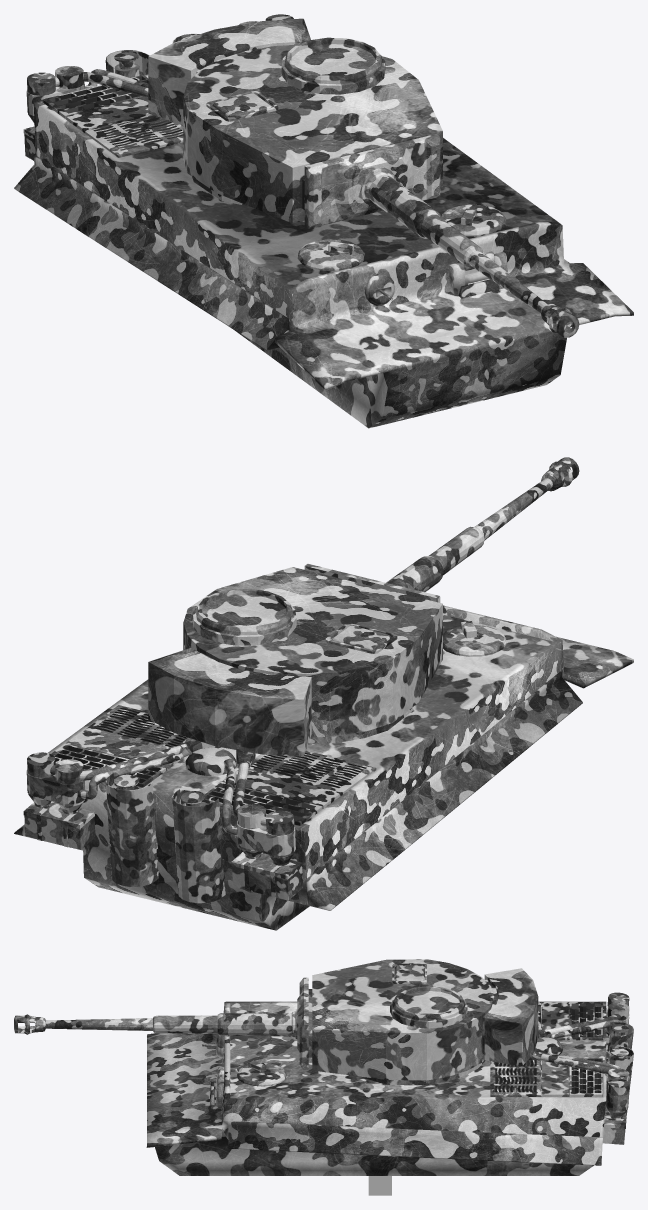
File: Tiger 1_Body.fbx
The picture shows the model from 3 angles, top to bottom: view 1: azimuth 30°, elevation 25°; view 2: azimuth 150°, elevation 25°; view 3: azimuth 270°, elevation 25°; orthographic projection. The views are drawn at different scales.
Parts seen in each view (by area): view 1: Body, Head, Body_Sub, Gun_Shield, Gun; view 2: Body, Head, Body_Sub, Gun, Gun_Shield; view 3: Body, Head, Body_Sub, Gun, Gun_Shield, root_body.
Part boxes in pixels (x1,y1,x2,y2): Body: (14,74,633,428); Head: (148,18,442,223); Body_Sub: (23,14,506,270); Gun_Shield: (304,134,442,238); Gun: (420,214,579,337); Body: (14,605,633,930); Head: (148,567,442,756); Body_Sub: (23,621,506,903); Gun: (429,457,579,575); Gun_Shield: (304,556,443,602); Body: (146,1001,606,1175); Head: (308,959,538,1085); Body_Sub: (237,992,633,1144); Gun: (14,1014,217,1034); Gun_Shield: (217,977,308,1069); root_body: (368,1176,391,1195).
Bounding box in the file's own units: 370 × 311 × 849.
